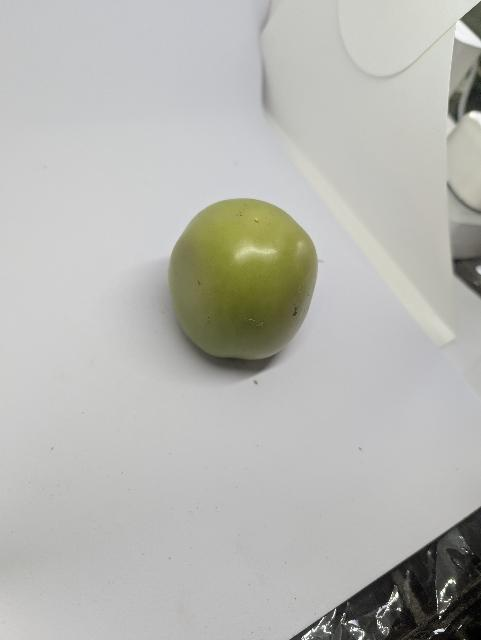green: (155, 186, 323, 378)
